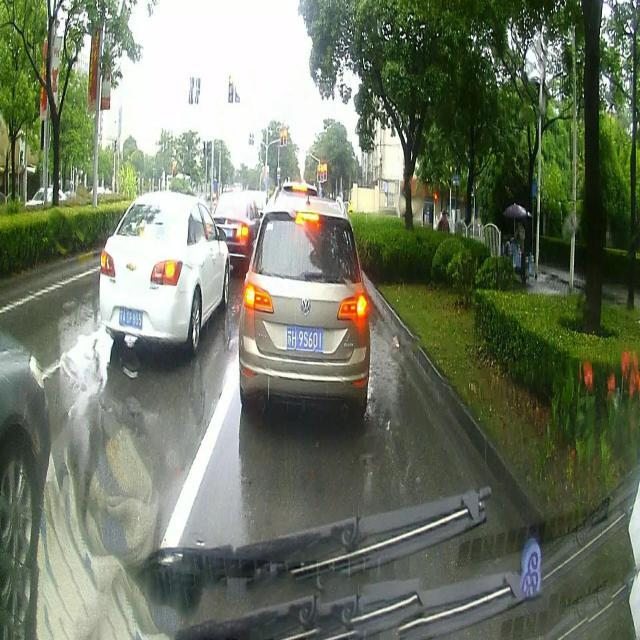car: (240, 192, 370, 412), (97, 188, 229, 350), (210, 192, 260, 262), (24, 183, 70, 220)
